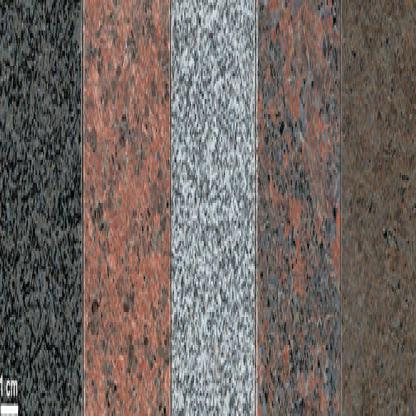Igneous_Granite: (83, 0, 172, 414), (169, 0, 256, 414), (255, 0, 342, 414), (0, 0, 83, 414), (340, 0, 415, 414)
